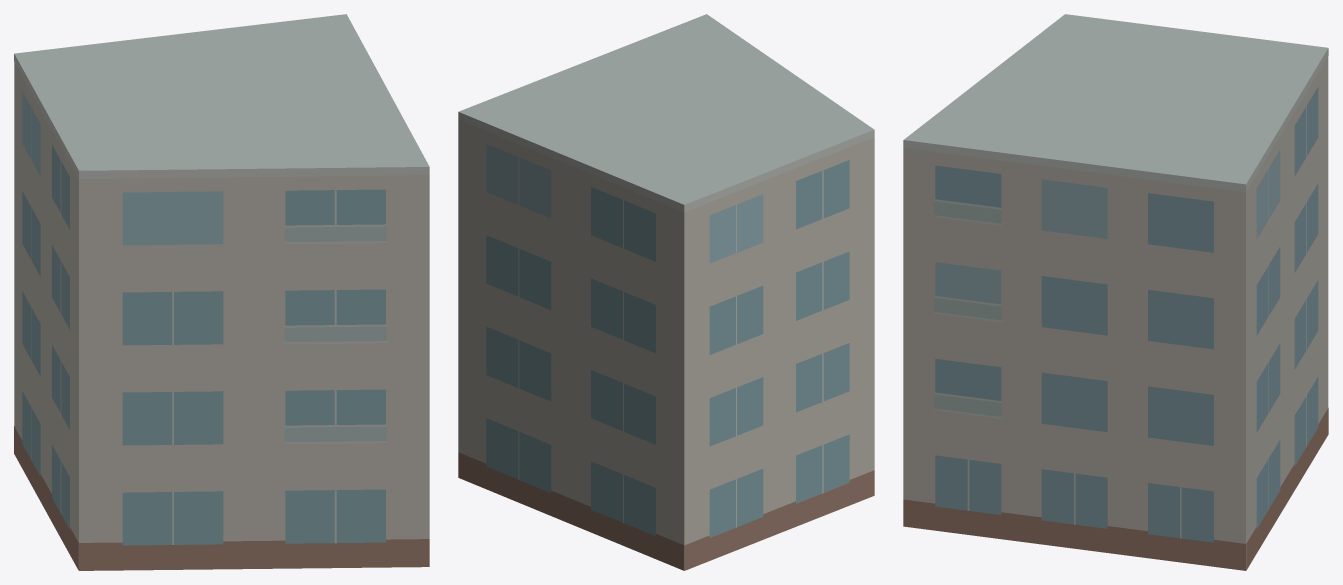
The model's file is survey-upis-32960925.glb.
3 views of the same model, side by side, from view 1: azimuth 30°, elevation 25°; view 2: azimuth 150°, elevation 25°; view 3: azimuth 270°, elevation 25° (orthographic). The views are drawn at different scales.
Parts seen in each view (by area): view 1: survey-upis-32960925.tmp; view 2: survey-upis-32960925.tmp; view 3: survey-upis-32960925.tmp.
Boxes of the visible parts, box(x1,y1,x2,y2) form: survey-upis-32960925.tmp: box(14, 14, 429, 570); survey-upis-32960925.tmp: box(458, 14, 874, 570); survey-upis-32960925.tmp: box(903, 14, 1328, 570).
Size of the model in its own units: 11.35 by 12 by 11.97.
